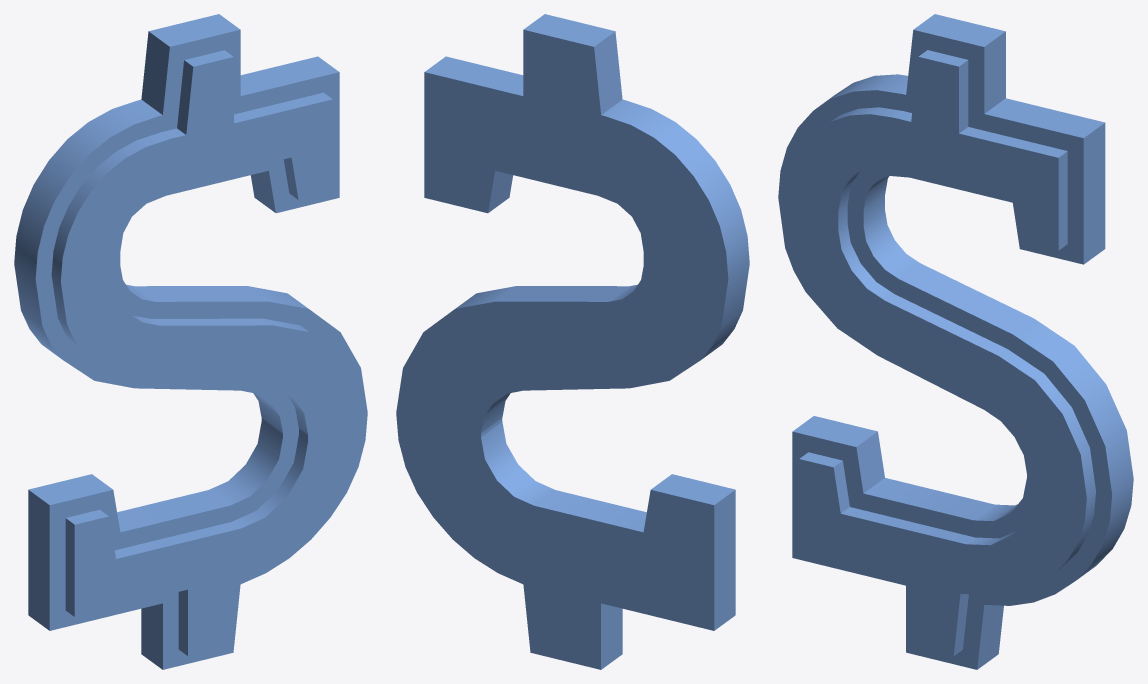
The model's file is DollarSign.FBX.
The picture shows the model from 3 angles, left to right: view 1: azimuth 30°, elevation 25°; view 2: azimuth 150°, elevation 25°; view 3: azimuth 330°, elevation 25°; orthographic projection.
Parts seen in each view (by area): view 1: $; view 2: $; view 3: $.
Part boxes in pixels (bbox=[...]): $: bbox=[14, 14, 367, 669]; $: bbox=[396, 14, 749, 669]; $: bbox=[778, 14, 1133, 669].
Bounding box in the file's own units: 3.13 × 5.6 × 0.5.
